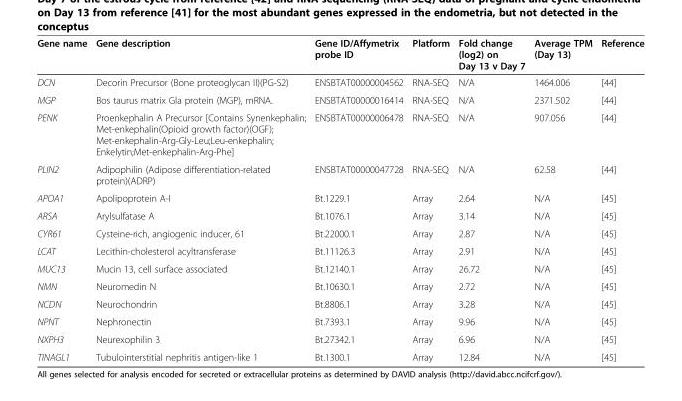table: (36, 36, 643, 362)
table column: (90, 36, 309, 362), (309, 36, 407, 362), (453, 36, 529, 362), (529, 36, 596, 362), (36, 36, 90, 362), (596, 36, 643, 362), (407, 36, 453, 362)
table column header: (36, 36, 643, 73)
table row: (36, 108, 643, 160), (36, 36, 643, 73), (36, 160, 643, 188), (36, 90, 643, 108), (36, 188, 643, 206), (36, 206, 643, 224), (36, 241, 643, 259), (36, 259, 643, 277), (36, 294, 643, 312), (36, 312, 643, 330), (36, 73, 643, 90), (36, 224, 643, 241), (36, 277, 643, 294), (36, 330, 643, 347), (36, 347, 643, 362)
